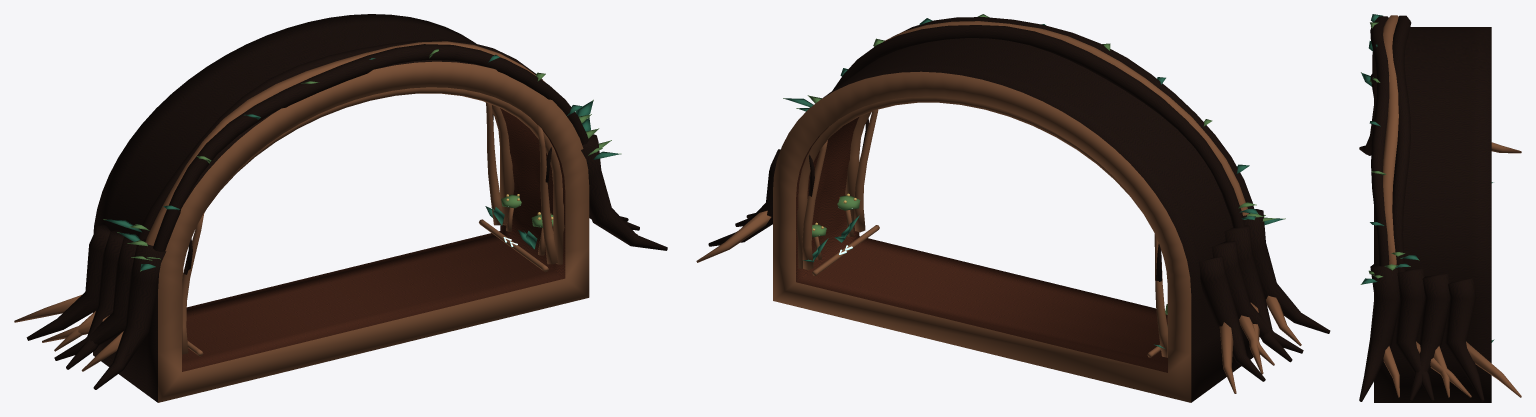
The model's file is portal_entry_lod1.glb.
The picture shows the model from 3 angles, left to right: view 1: azimuth 30°, elevation 25°; view 2: azimuth 150°, elevation 25°; view 3: azimuth 270°, elevation 25°; orthographic projection. The views are drawn at different scales.
Visible parts, largest first — view 1: TunnelGeometry.001; view 2: TunnelGeometry.001; view 3: TunnelGeometry.001.
Boxes of the visible parts, x1,y1,x2,y2 form: TunnelGeometry.001: (14,14,667,402); TunnelGeometry.001: (696,14,1330,402); TunnelGeometry.001: (1359,14,1521,402).
Bounding box in the file's own units: 20.35 × 9.87 × 5.53.
Materials: 7 (2 with a texture image).
